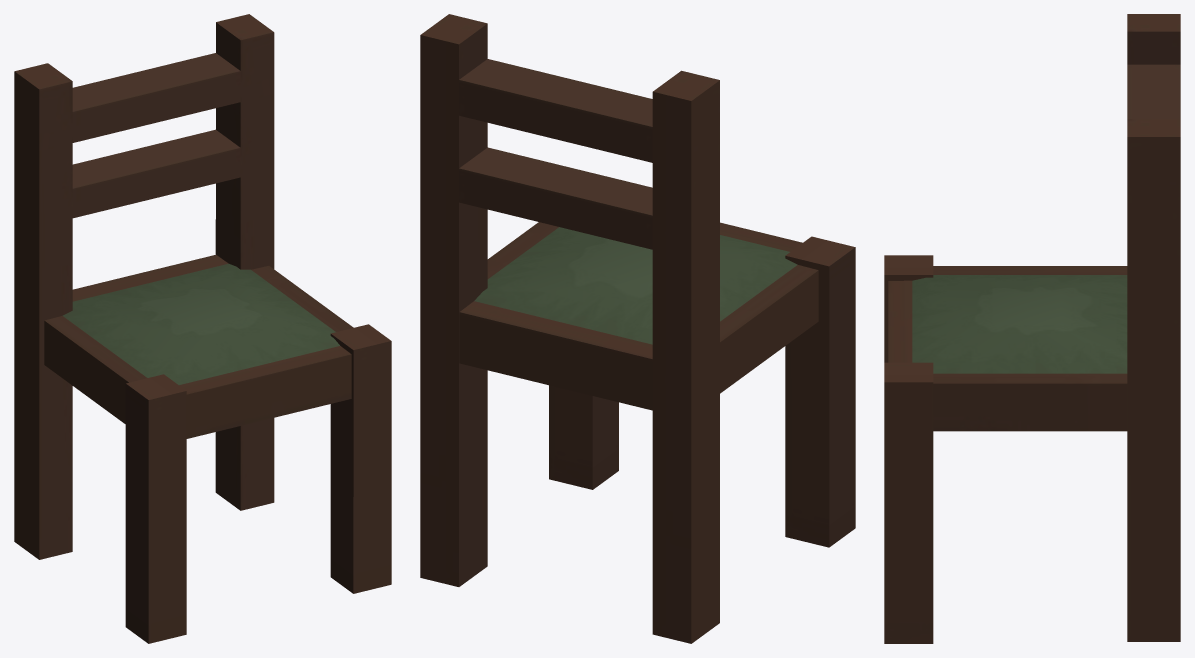
Rendered from chair3.FBX.
The picture shows the model from 3 angles, left to right: view 1: azimuth 30°, elevation 25°; view 2: azimuth 150°, elevation 25°; view 3: azimuth 270°, elevation 25°; orthographic projection. The views are drawn at different scales.
Visible parts, largest first — view 1: chair_3; view 2: chair_3; view 3: chair_3.
Boxes of the visible parts, x1=… form: chair_3: x1=14, y1=14, x2=391, y2=643; chair_3: x1=420, y1=14, x2=855, y2=643; chair_3: x1=884, y1=14, x2=1180, y2=643.
Bounding box in the file's own units: 19.67 × 19.38 × 36.41.
1 material, 1 textured.
